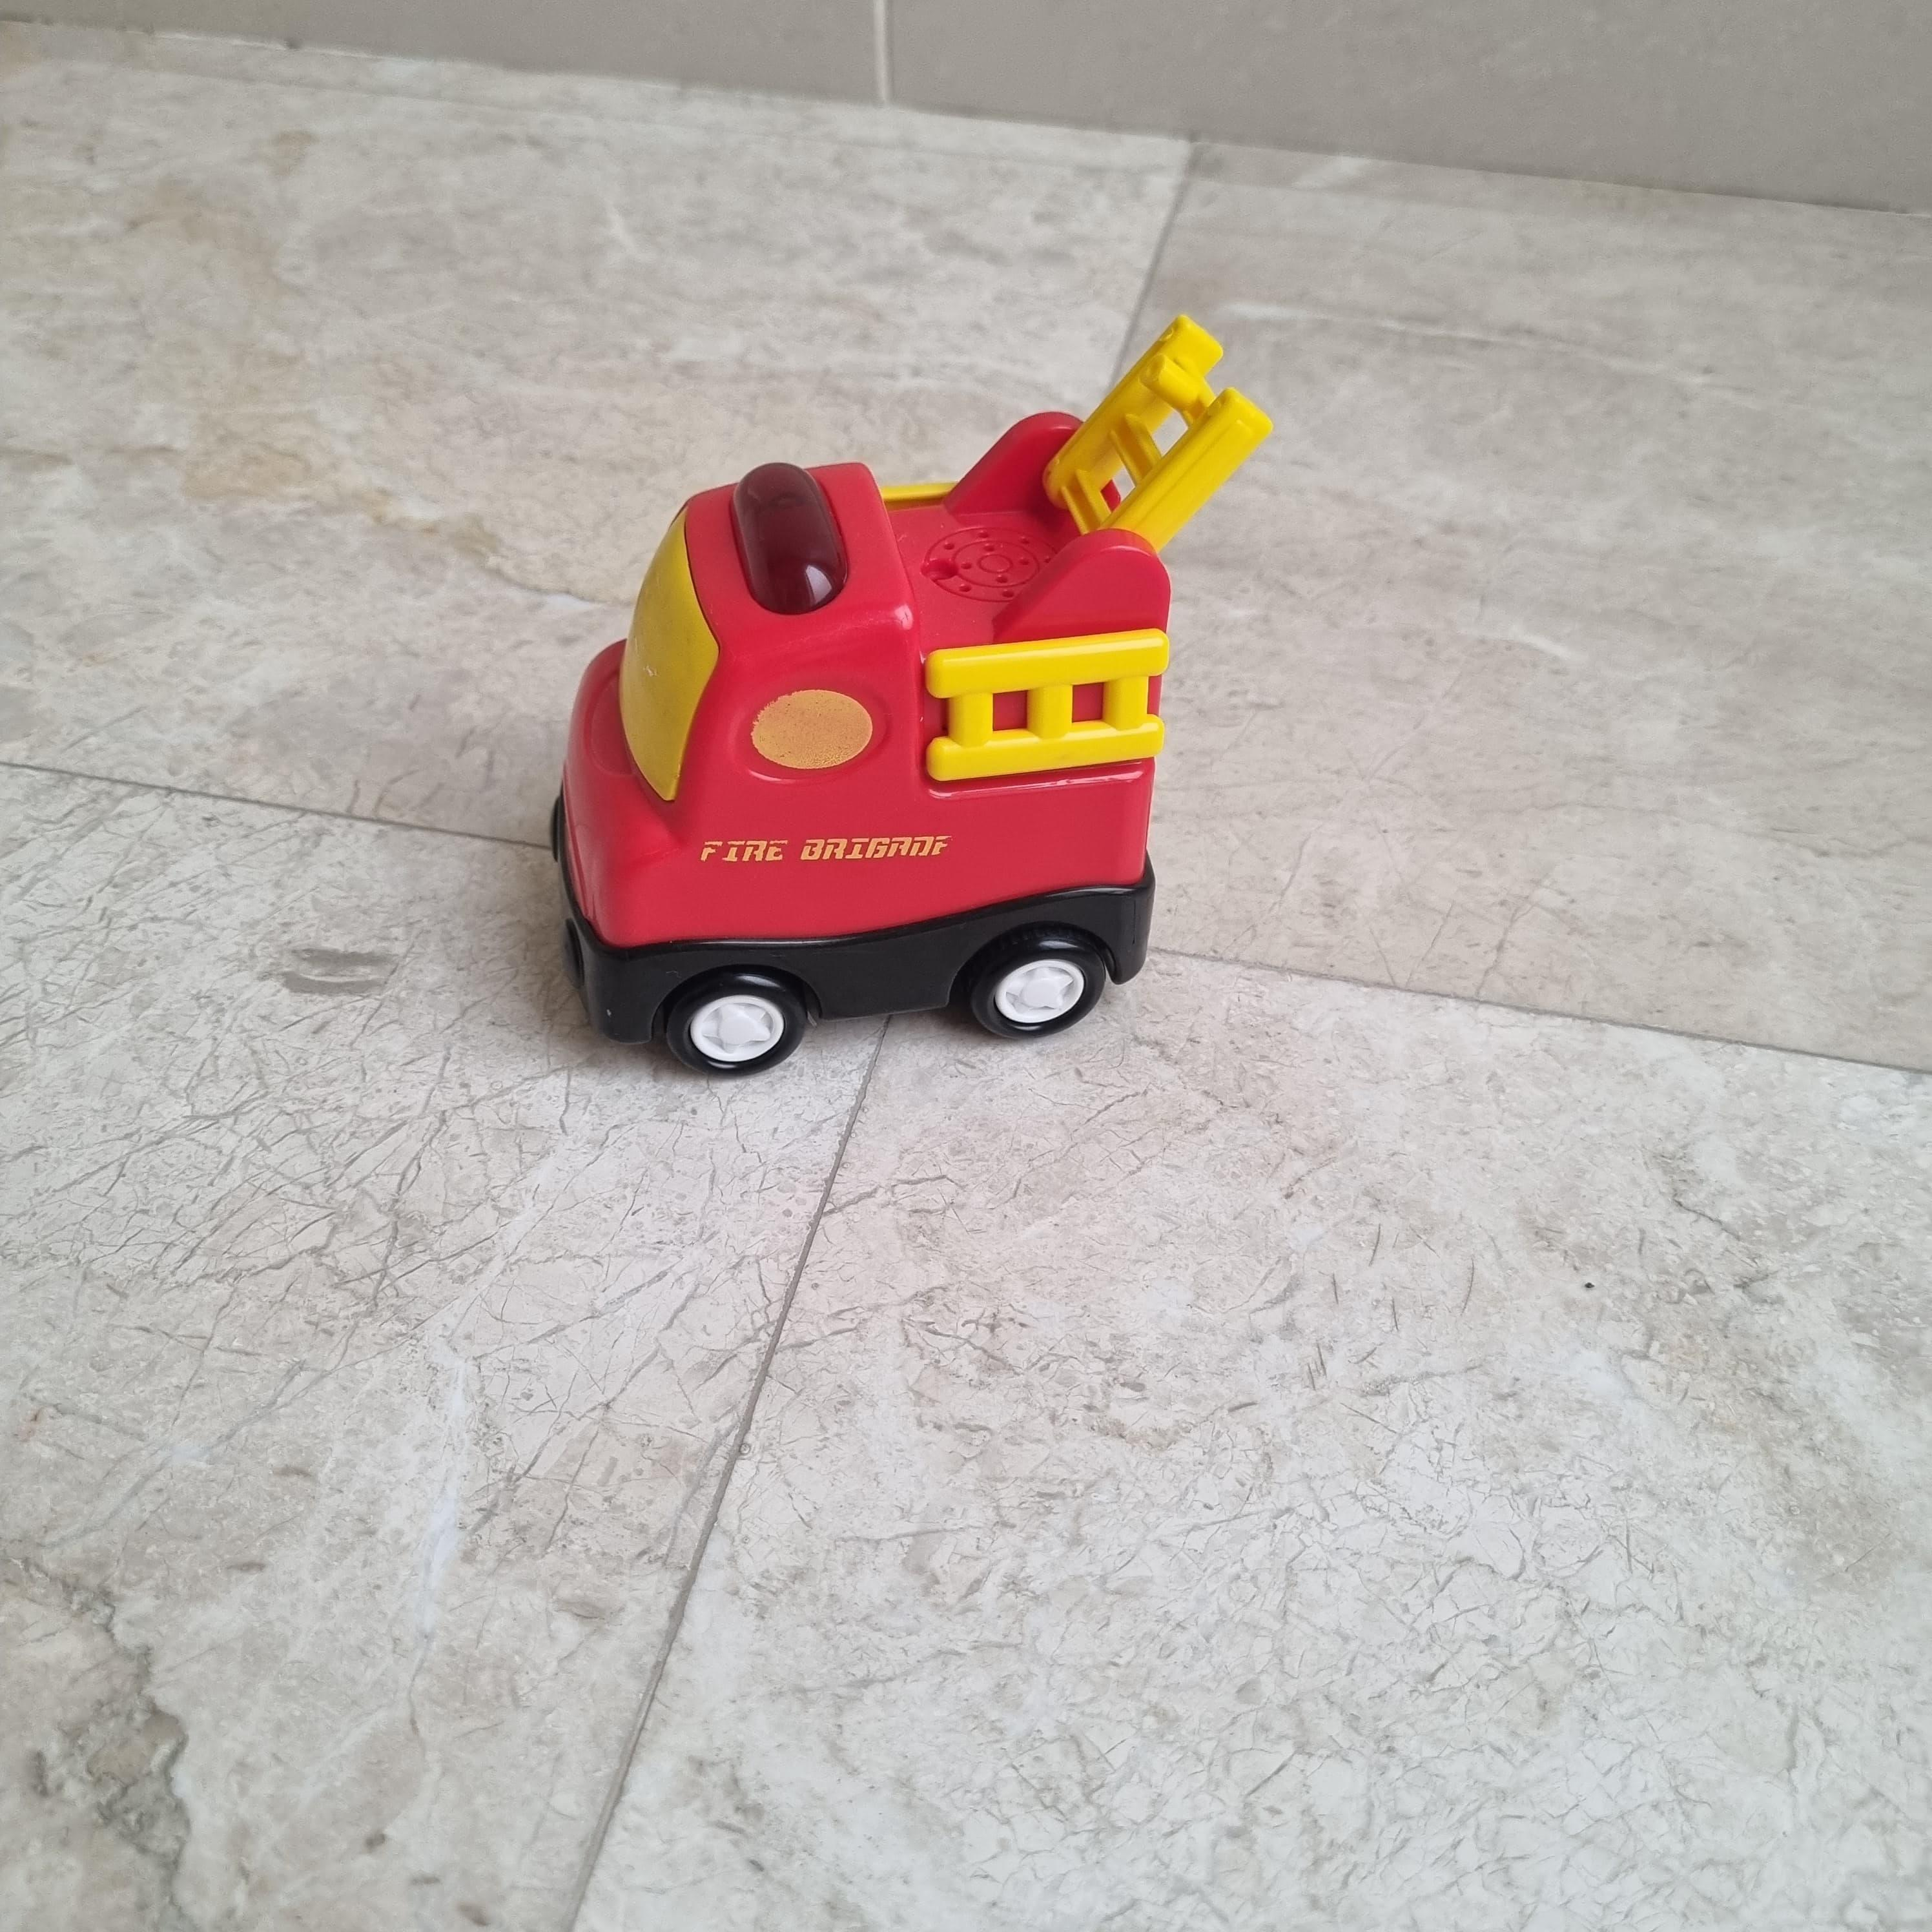firetruck_off: (550, 315, 1274, 1079)
